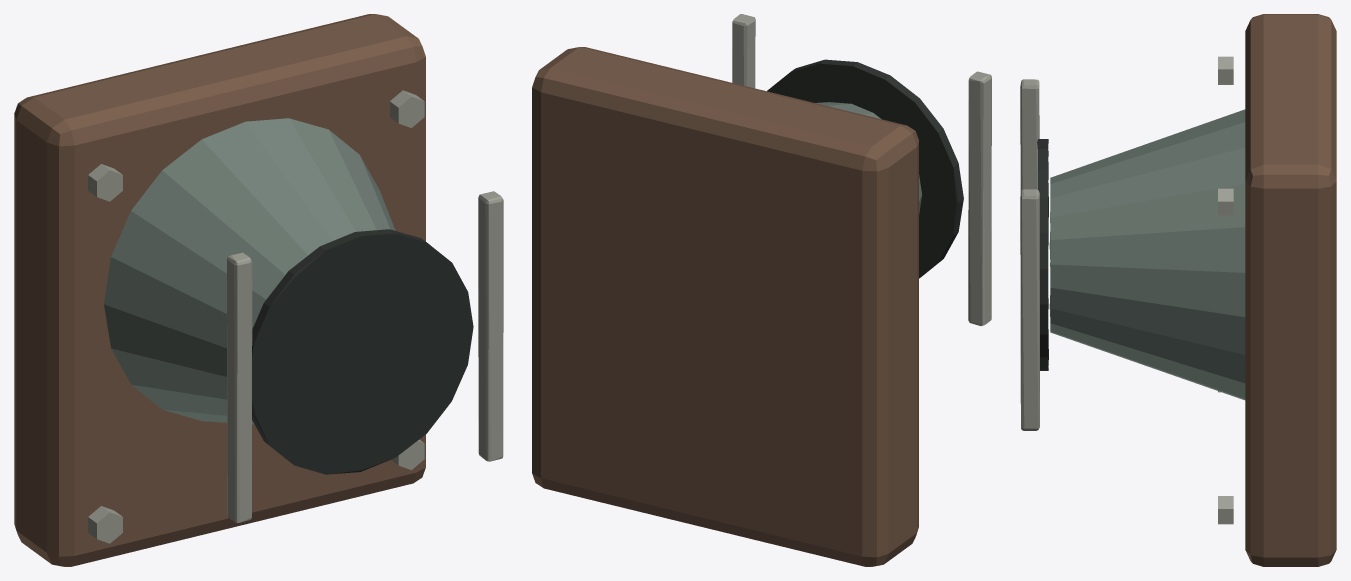
The model's file is alarm_low.glb.
3 views of the same model, side by side, from view 1: azimuth 30°, elevation 25°; view 2: azimuth 150°, elevation 25°; view 3: azimuth 270°, elevation 25° (orthographic). The views are drawn at different scales.
Parts seen in each view (by area): view 1: alarm.001; view 2: alarm.001; view 3: alarm.001.
Part boxes in pixels (x1=…): alarm.001: x1=14, y1=14, x2=503, y2=566; alarm.001: x1=532, y1=14, x2=991, y2=566; alarm.001: x1=1020, y1=14, x2=1336, y2=566.
Size of the model in its own units: 0.3 by 0.34 by 0.2425.
